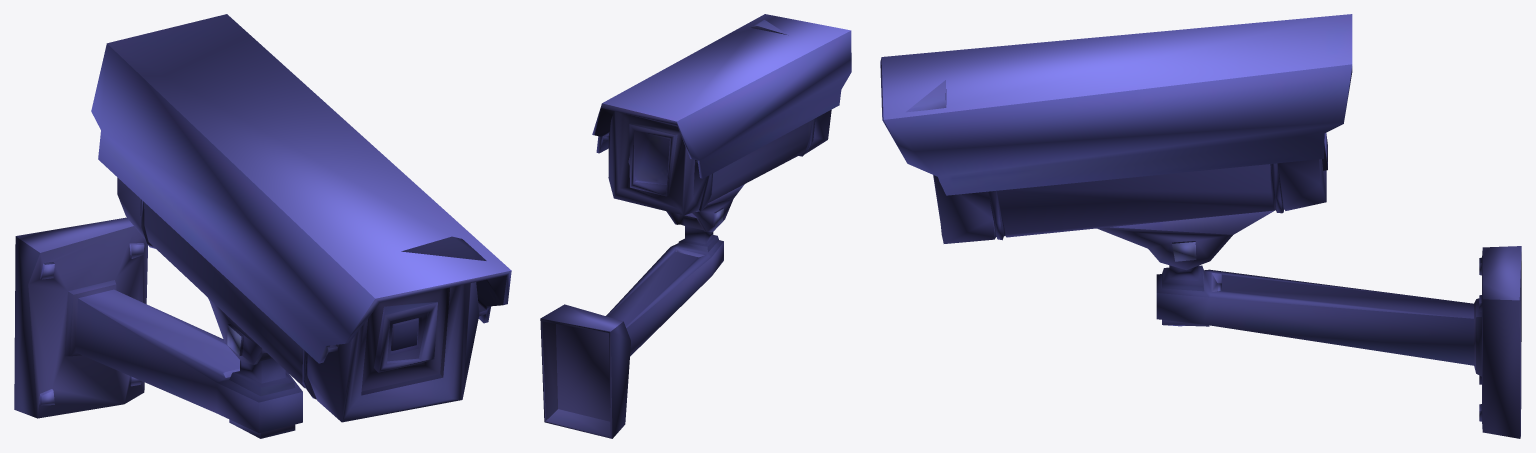
Rendered from model.progressive.glb.
3 views of the same model, side by side, from view 1: azimuth 30°, elevation 25°; view 2: azimuth 150°, elevation 25°; view 3: azimuth 270°, elevation 25° (orthographic). The views are drawn at different scales.
Parts seen in each view (by area): view 1: mesh_input; view 2: mesh_input; view 3: mesh_input.
Part boxes in pixels (x1,y1,x2,y2): mesh_input: [14, 14, 511, 438]; mesh_input: [540, 14, 851, 438]; mesh_input: [880, 14, 1521, 438].
Size of the model in its own units: 0.5 by 1.23 by 1.89.
Materials: 1 (1 with a texture image).
